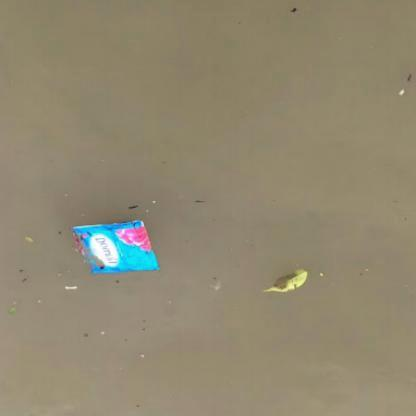Trash: (68, 210, 166, 282)
